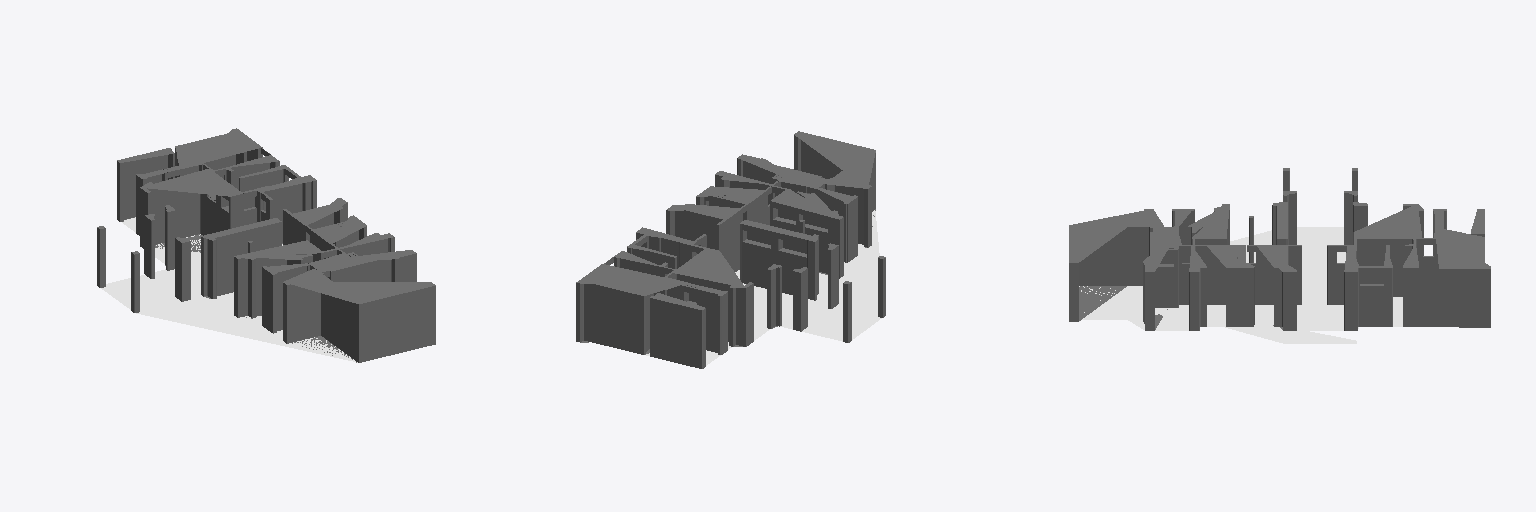
The model's file is ecd2eda4-19eb-48e3-9109-05b9dfc3f940.obj.
3 views of the same model, side by side, from view 1: azimuth 30°, elevation 25°; view 2: azimuth 150°, elevation 25°; view 3: azimuth 270°, elevation 25° (orthographic).
Parts seen in each view (by area): view 1: Floor, Box13Wall328, VertWalls27, Box17Wall451, Box13Wall327, Box14Wall351, VertWalls17, Box13Wall325, VertWalls29, Box7Wall172, VertWalls31, Box1Wall23 (+11 smaller); view 2: Floor, Box8Wall224, Box10Wall274, VertWalls27, VertWalls17, VertWalls29, Box3Wall75, Box57Wall229, Box3Wall80, VertWalls31, Box11Wall289, VertWalls15 (+6 smaller); view 3: Floor, Box13Wall335, Box8Wall220, VertWalls27, VertWalls17, Box14Wall372, Box4Wall97, VertWalls29, Box32Wall130, Box4Wall82, Box6Wall149, Box3Wall62 (+13 smaller).
Part boxes in pixels (x1,y1,x2,y2): Floor: (101,221,357,362); Box13Wall328: (359,286,435,362); VertWalls27: (283,269,435,303); Box17Wall451: (215,222,281,295); Box13Wall327: (321,293,358,362); Box14Wall351: (147,188,199,244); VertWalls17: (175,128,261,168); Box13Wall325: (287,284,320,343); VertWalls29: (140,168,242,196); Box7Wall172: (331,260,390,281); VertWalls31: (234,240,323,259); Box1Wall23: (269,184,301,242); Floor: (646,210,881,365); Box8Wall224: (584,284,643,354); Box10Wall274: (650,298,701,368); VertWalls27: (794,131,875,188); VertWalls17: (576,264,687,295); VertWalls29: (671,248,752,287); Box3Wall75: (675,210,722,253); Box57Wall229: (742,242,770,288); Box3Wall80: (719,209,742,271); VertWalls31: (771,189,842,219); Box11Wall289: (697,289,717,352); VertWalls15: (738,154,821,186); Floor: (1079,227,1402,343); Box13Wall335: (1079,227,1148,285); Box8Wall220: (1439,269,1490,327); VertWalls27: (1069,209,1163,262); VertWalls17: (1434,228,1490,268); Box14Wall372: (1357,239,1411,296); Box4Wall97: (1226,268,1253,326); VertWalls29: (1354,204,1423,239); Box32Wall130: (1360,286,1383,326); Box4Wall82: (1205,246,1225,304); Box6Wall149: (1403,268,1418,326); Box3Wall62: (1256,246,1273,304).
Bounding box in the file's own units: 10.66 × 2.5 × 16.24.